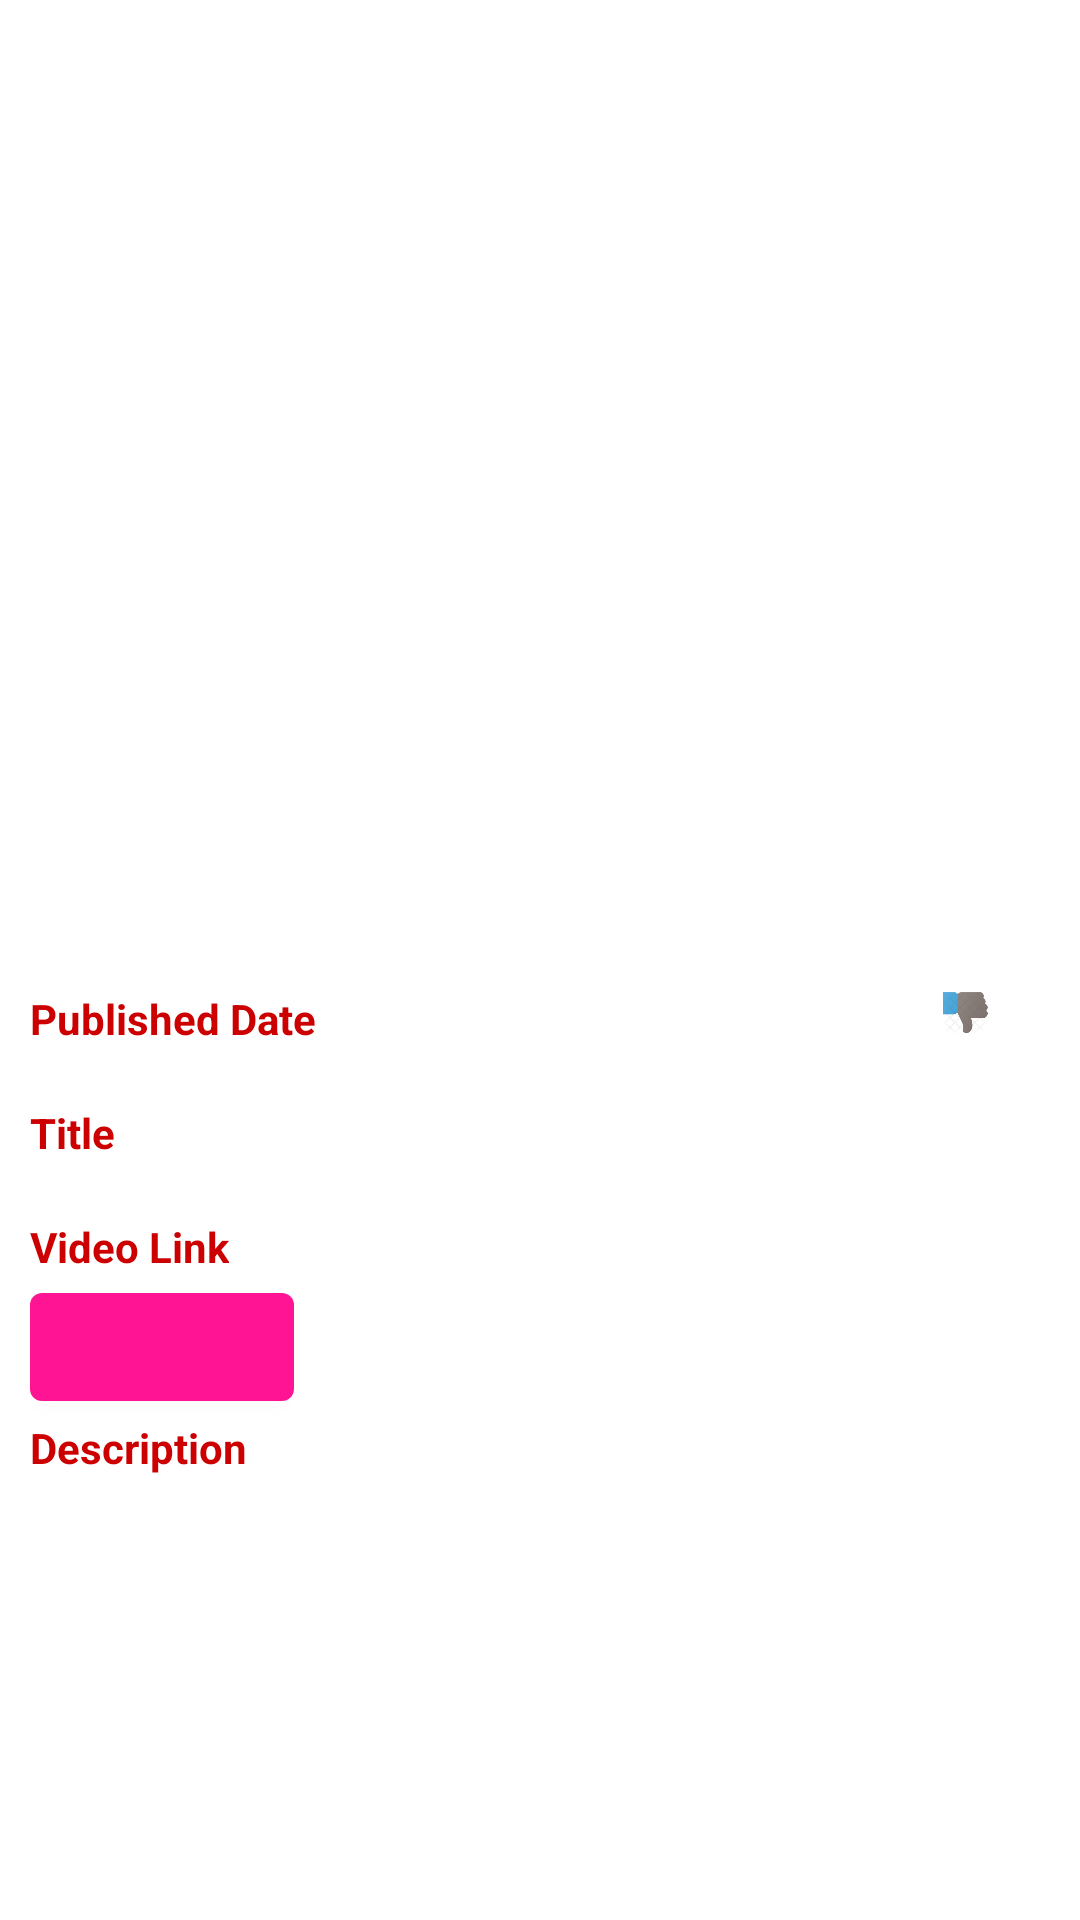

Where to tap for icons on this 1080x1920 app screen, as [x,y]:
dislike: [965,1012]
